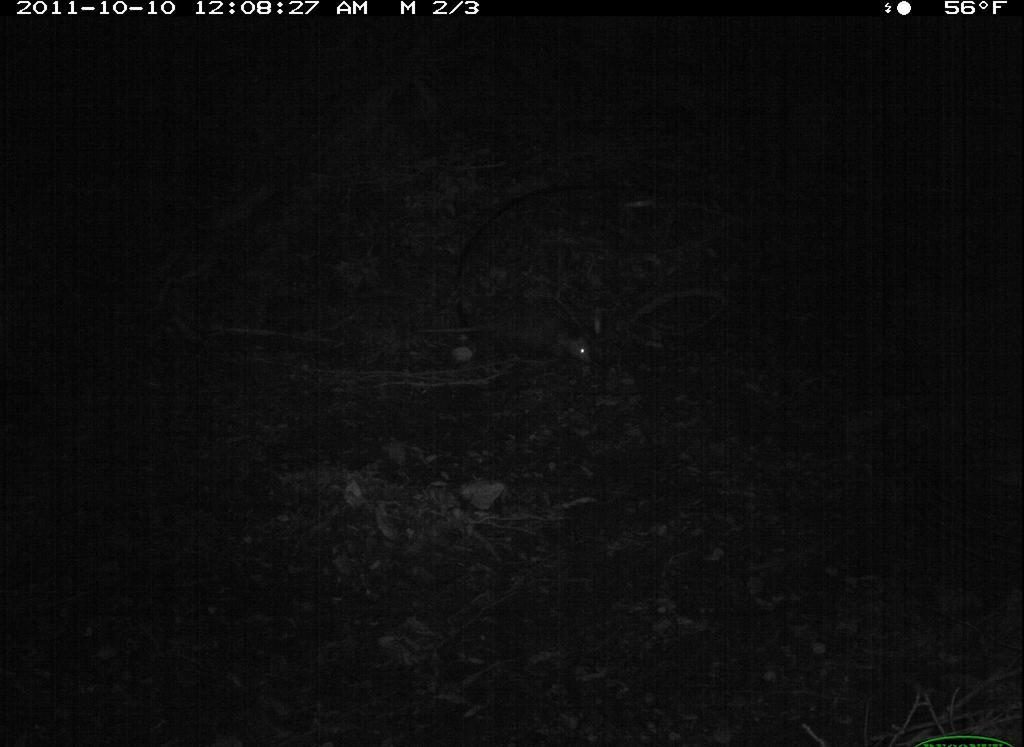opossum: (402, 286, 603, 379)
